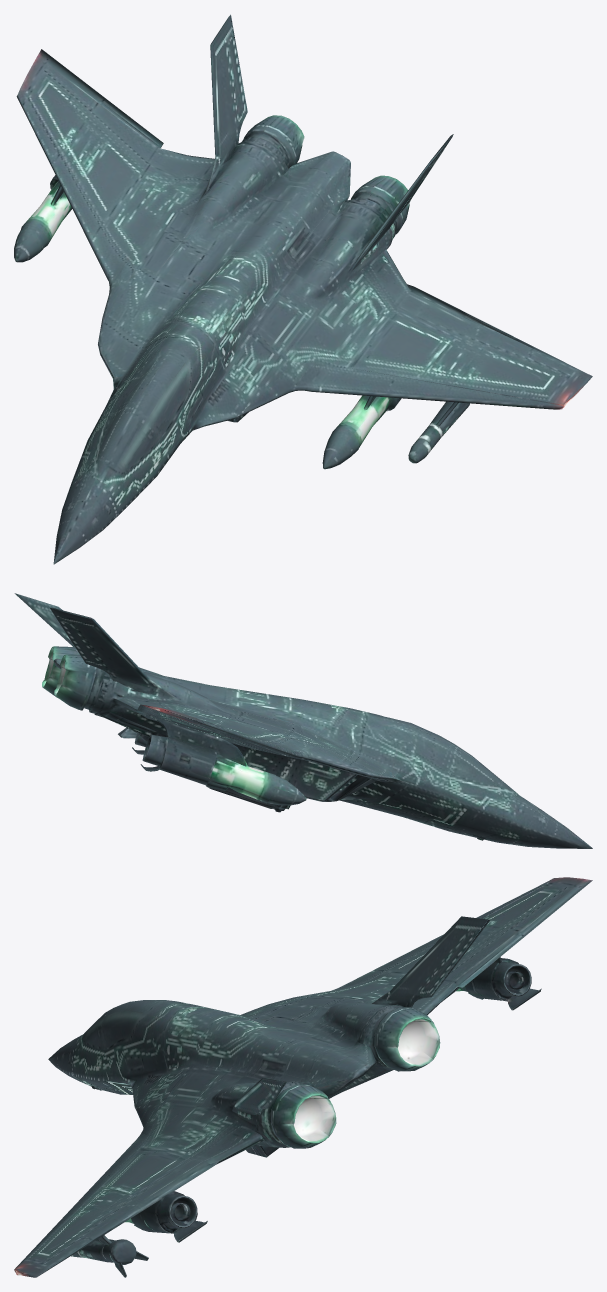
Rendered from chasseur_tripo.glb.
The picture shows the model from 3 angles, top to bottom: view 1: azimuth 30°, elevation 25°; view 2: azimuth 150°, elevation 25°; view 3: azimuth 270°, elevation 25°; orthographic projection. The views are drawn at different scales.
Visible parts, largest first — view 1: tripo_node_55c564ae-6b4f-4942-949e-c3989e578b06; view 2: tripo_node_55c564ae-6b4f-4942-949e-c3989e578b06; view 3: tripo_node_55c564ae-6b4f-4942-949e-c3989e578b06.
Boxes of the visible parts, x1,y1,x2,y2 form: tripo_node_55c564ae-6b4f-4942-949e-c3989e578b06: (14,14,592,564); tripo_node_55c564ae-6b4f-4942-949e-c3989e578b06: (14,593,592,848); tripo_node_55c564ae-6b4f-4942-949e-c3989e578b06: (14,877,592,1277).
Size of the model in its own units: 0.9995 by 0.5571 by 0.853.
Materials: 1 (1 with a texture image).
